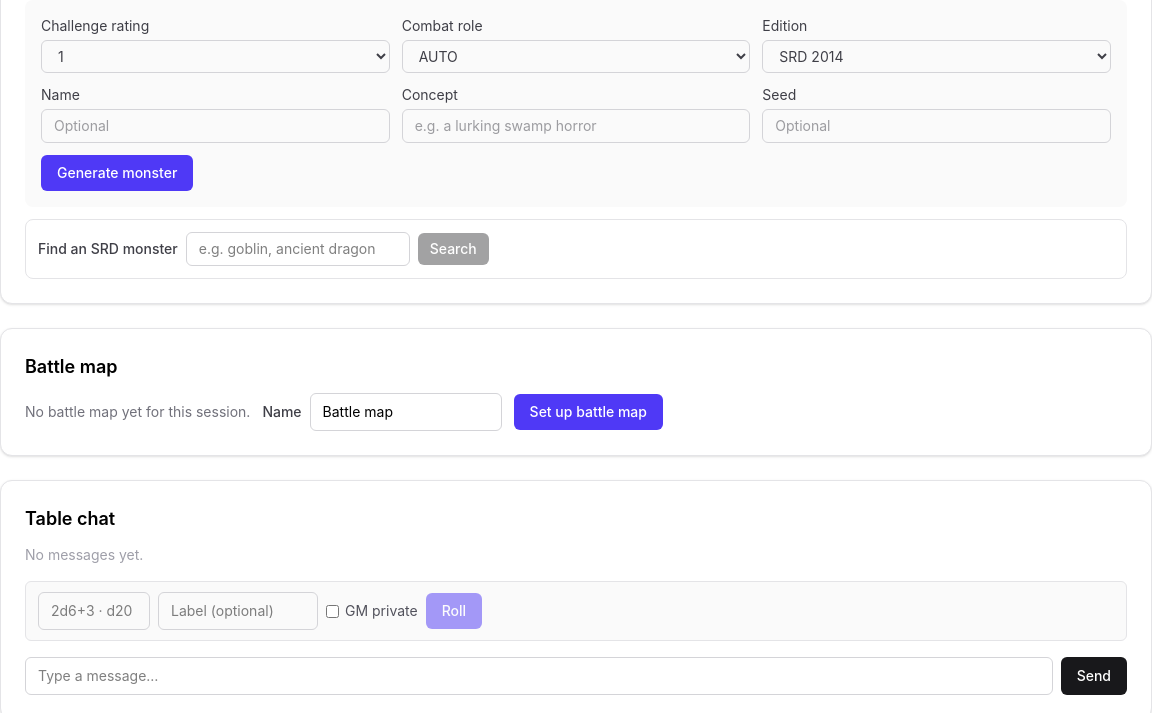
Test: SessionPage › sends a custom name for the battle map
(page scrolled)
Expected: the button "Set up battle map" is shown, [514,394,663,430]
Type "Grumm’s War Room" into the field with test id "battle-map-name".
click(406, 412); type("Grumm’s War Room")  # box [310,393,502,431]
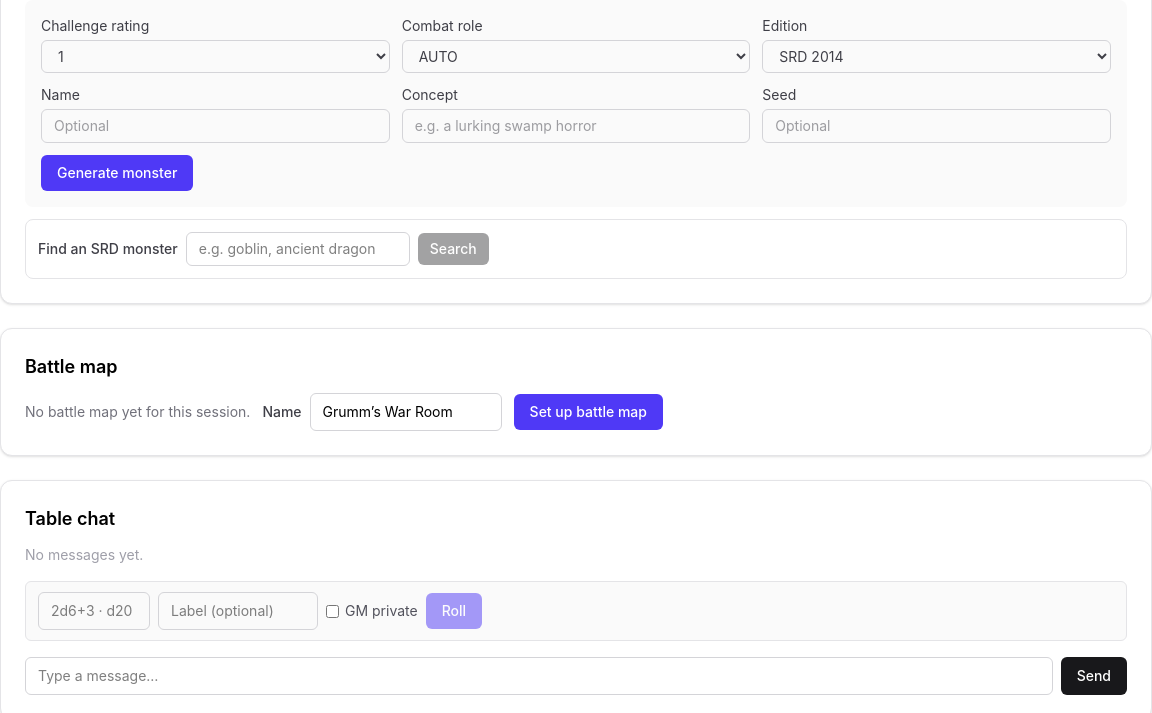
Click the button "Set up battle map".
click(588, 412)  # box [514,394,663,430]
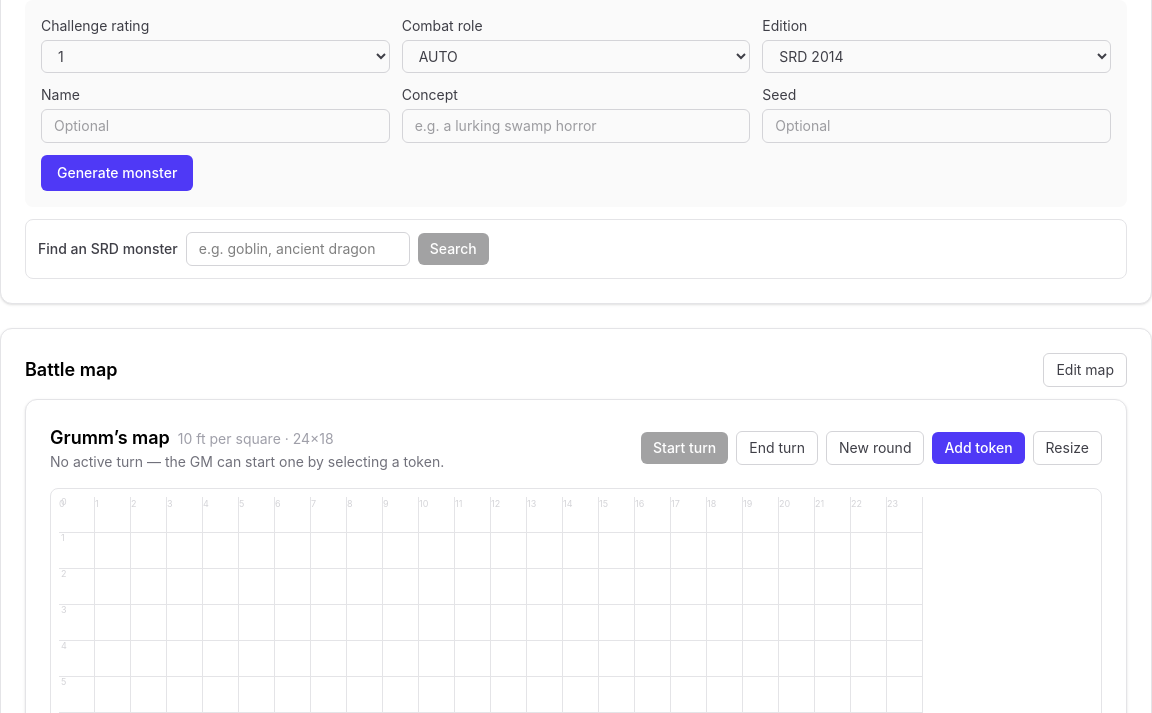
Now the heading "Grumm’s map10 ft per square · 24×18" is shown, box [50,427,334,448]
